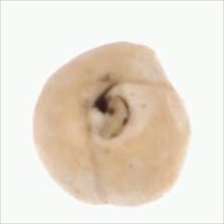L3: (80, 76, 137, 141)
L4: (34, 42, 190, 207)
